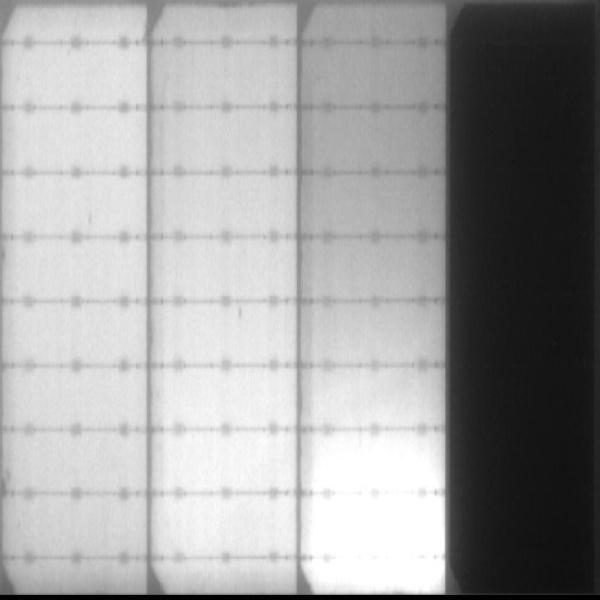hot_spot: (310, 497, 442, 554), (316, 437, 439, 488), (313, 563, 444, 591)
no_electricity: (449, 5, 598, 597)
